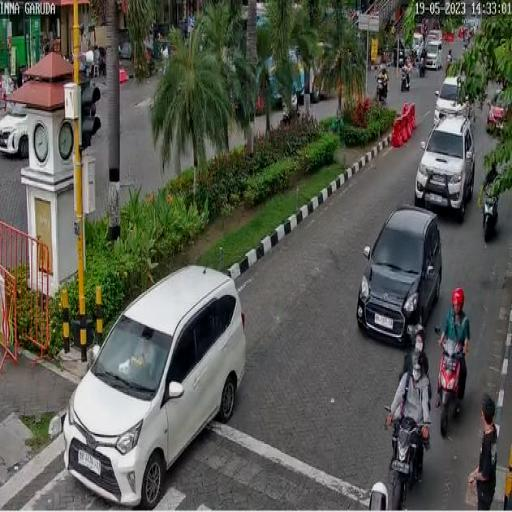mobil: (58, 262, 250, 505), (356, 204, 442, 347), (414, 114, 477, 217), (432, 74, 469, 126)
motor: (385, 399, 433, 511), (434, 323, 470, 441), (480, 182, 500, 242)
